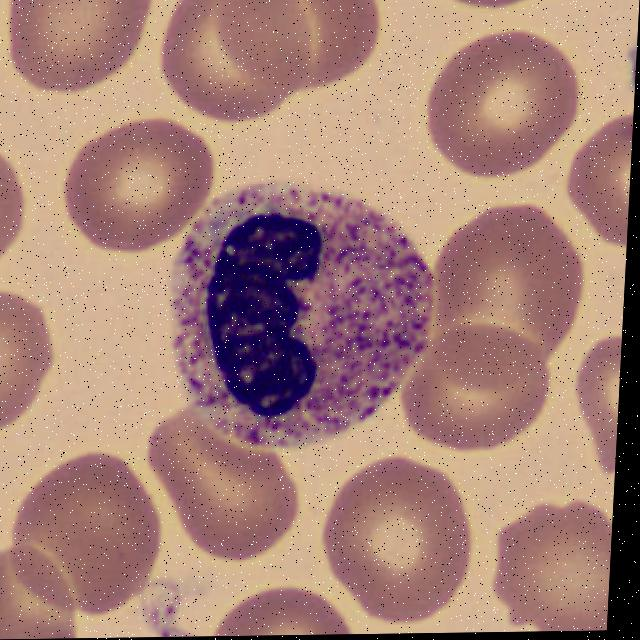neutrophil: (156, 173, 448, 454)
rbc: (422, 210, 584, 385), (319, 447, 476, 609), (23, 478, 173, 611), (69, 127, 219, 255), (430, 37, 572, 168), (157, 416, 282, 558), (168, 0, 312, 122), (396, 328, 552, 440), (204, 0, 386, 89), (500, 501, 614, 632), (6, 0, 147, 89), (0, 547, 101, 640), (562, 114, 634, 237), (206, 581, 354, 636), (0, 301, 64, 428), (569, 334, 622, 461), (0, 162, 30, 258), (431, 0, 542, 3)
